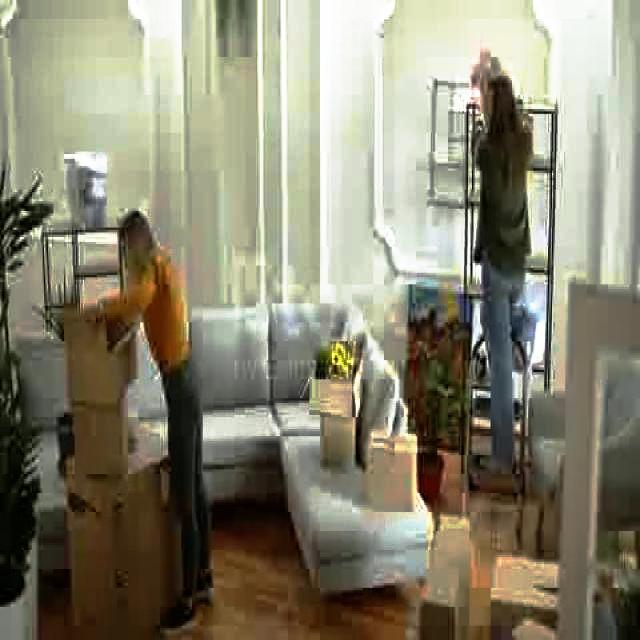Box: (69, 482, 171, 624), (424, 509, 467, 634), (65, 328, 136, 400), (358, 434, 416, 522), (496, 543, 555, 621), (70, 403, 132, 476), (312, 384, 360, 460)
